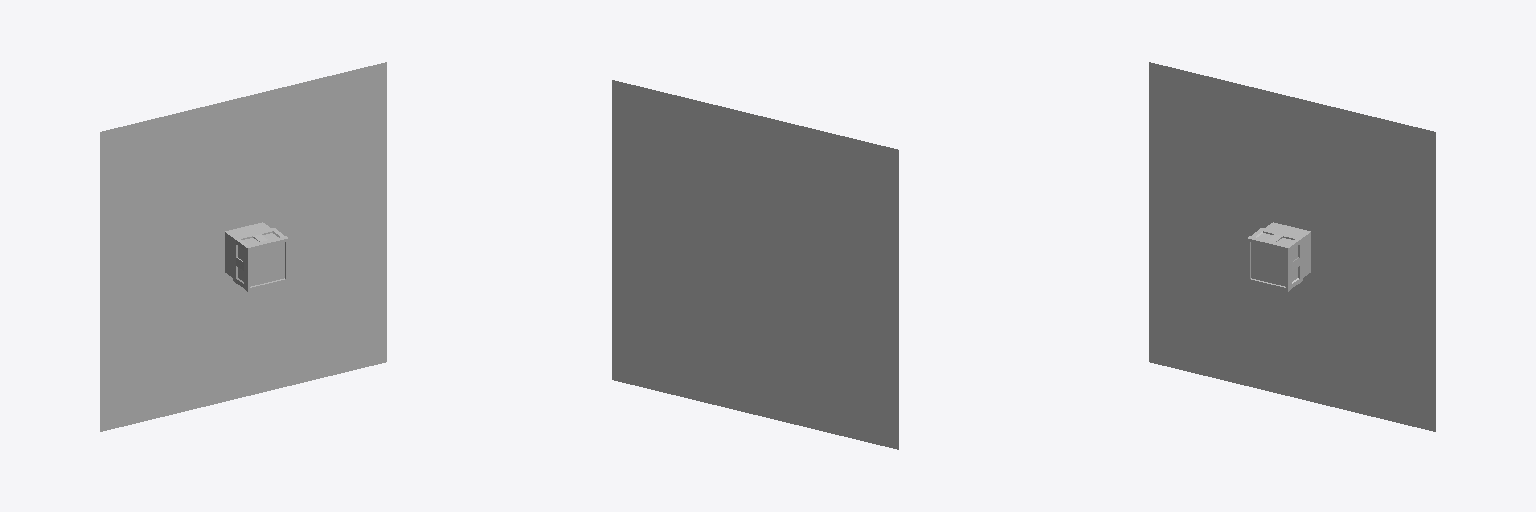
File: protoEnsem.obj
3 renders of one model, left to right at view 1: azimuth 30°, elevation 25°; view 2: azimuth 150°, elevation 25°; view 3: azimuth 330°, elevation 25°, orthographic.
Visible parts, largest first — view 1: Plane; view 2: Plane; view 3: Plane.
Boxes of the visible parts, <box> form: Plane: <box>100,62,386,431</box>; Plane: <box>612,80,898,449</box>; Plane: <box>1149,62,1435,431</box>.
Bounding box in the file's own units: 14.89 × 14.89 × 2.2.